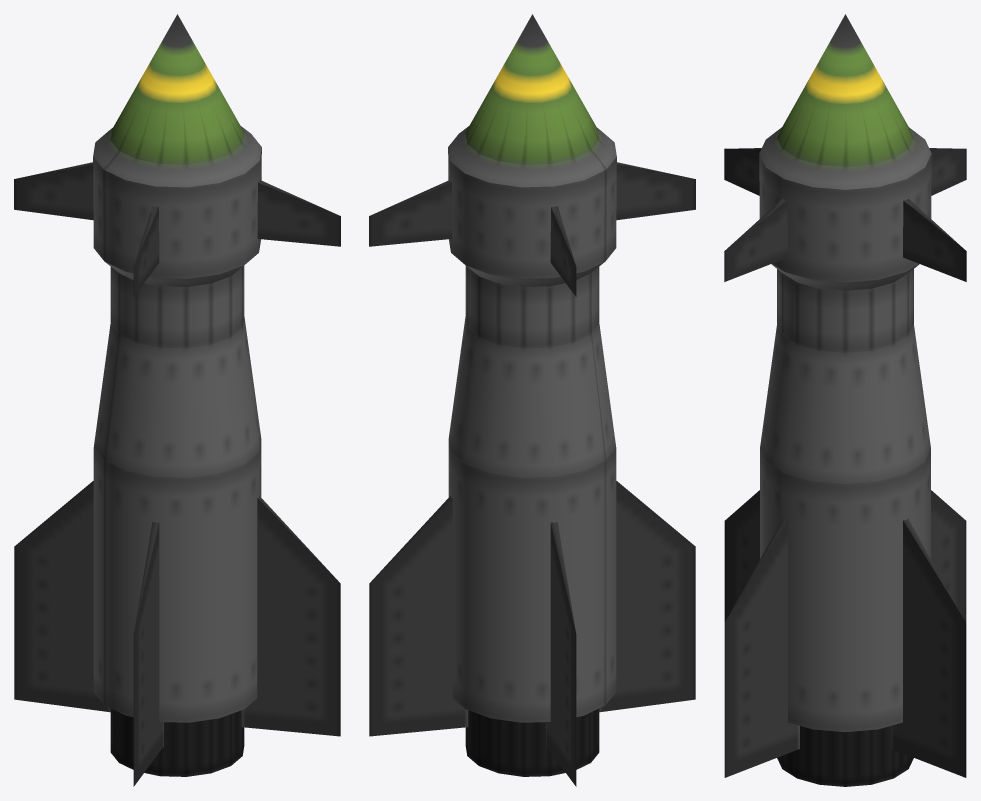
Rendered from missile_strong.obj.
The picture shows the model from 3 angles, left to right: view 1: azimuth 30°, elevation 25°; view 2: azimuth 150°, elevation 25°; view 3: azimuth 270°, elevation 25°; orthographic projection.
Parts seen in each view (by area): view 1: missile_strong; view 2: missile_strong; view 3: missile_strong.
Boxes of the visible parts, x1,y1,x2,y2 form: missile_strong: (14,14,340,786); missile_strong: (369,14,695,786); missile_strong: (724,14,966,786).
Bounding box in the file's own units: 1.77 × 6 × 1.77.
